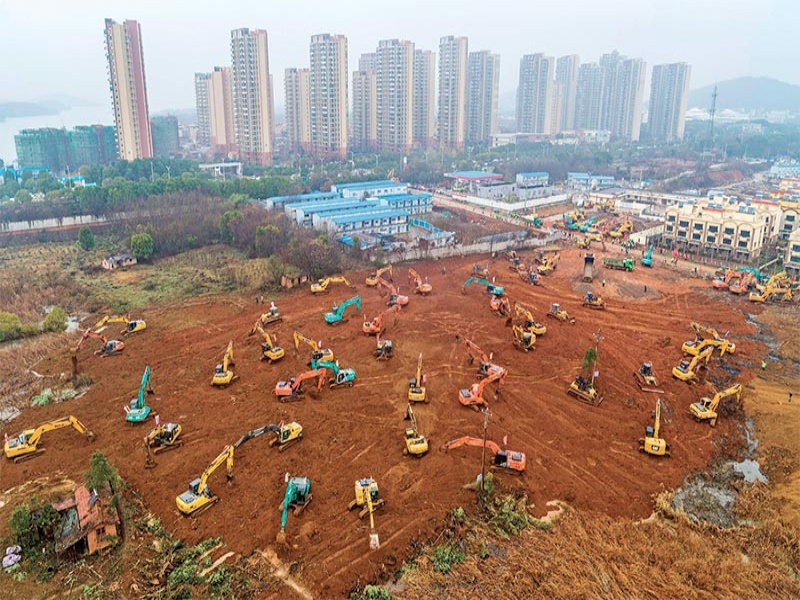excavator: (172, 446, 235, 522), (1, 414, 95, 463), (438, 434, 528, 477), (276, 472, 314, 547), (346, 476, 383, 549), (455, 367, 506, 418), (687, 383, 743, 426), (640, 400, 678, 463), (121, 363, 157, 429), (141, 418, 185, 471), (237, 423, 305, 455), (271, 367, 324, 406), (396, 403, 428, 461), (358, 301, 402, 341), (290, 331, 335, 368), (76, 328, 126, 361), (670, 346, 711, 385), (322, 293, 362, 332), (247, 324, 285, 365), (211, 341, 239, 392), (312, 360, 357, 391), (91, 315, 146, 339), (308, 273, 355, 301), (458, 275, 506, 299), (514, 304, 547, 338), (409, 353, 429, 404), (748, 287, 793, 307), (406, 268, 434, 299), (364, 264, 396, 289), (512, 326, 538, 355)
vehicle: (547, 301, 575, 328), (601, 255, 634, 274), (580, 292, 609, 312)
